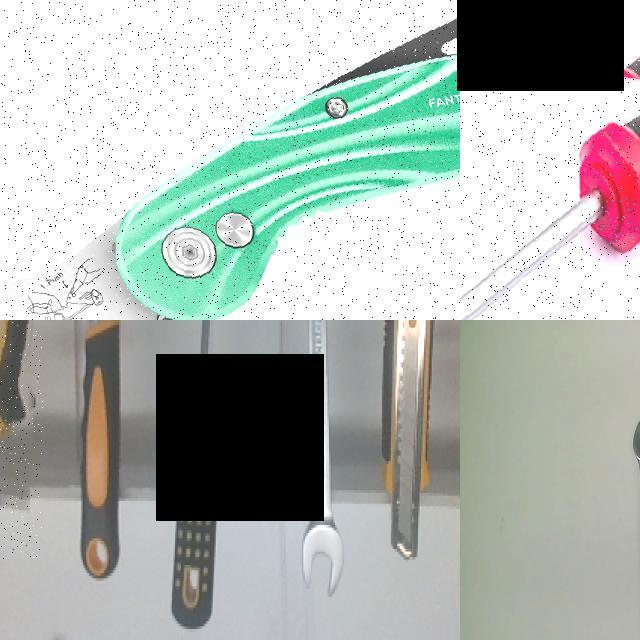estilete: (382, 320, 433, 558)
